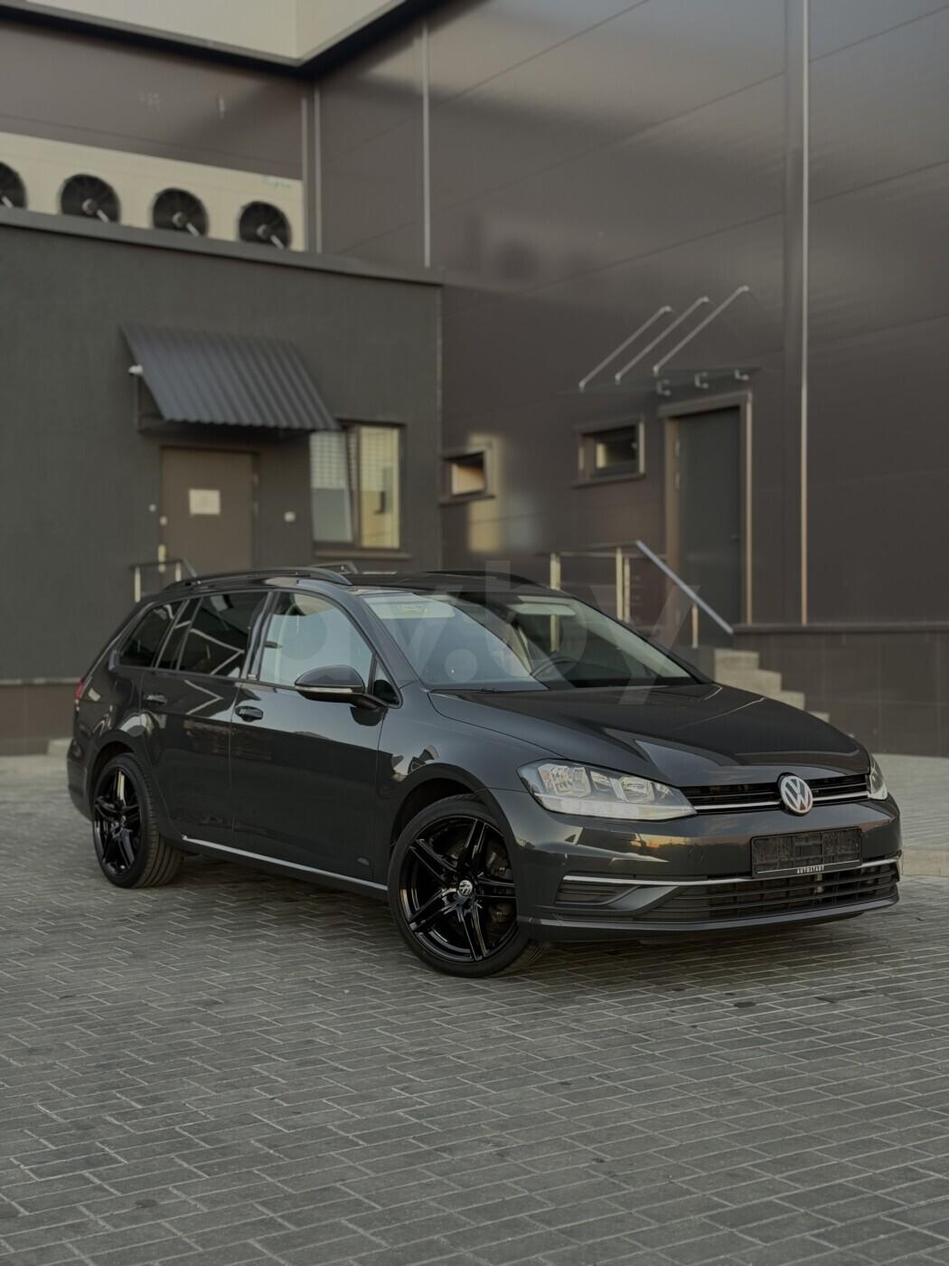Golf_2017-2021: (72, 557, 914, 989)
